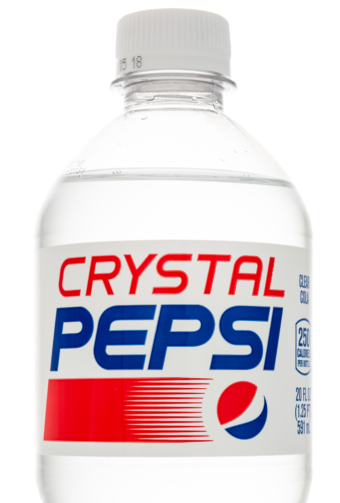pepsi: (215, 380, 267, 438)
